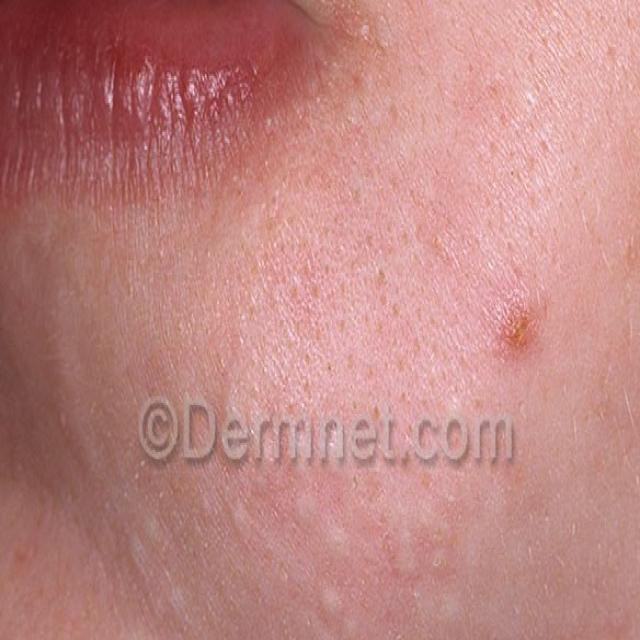Acne: (155, 365, 457, 640), (492, 276, 554, 401), (623, 235, 640, 280)
